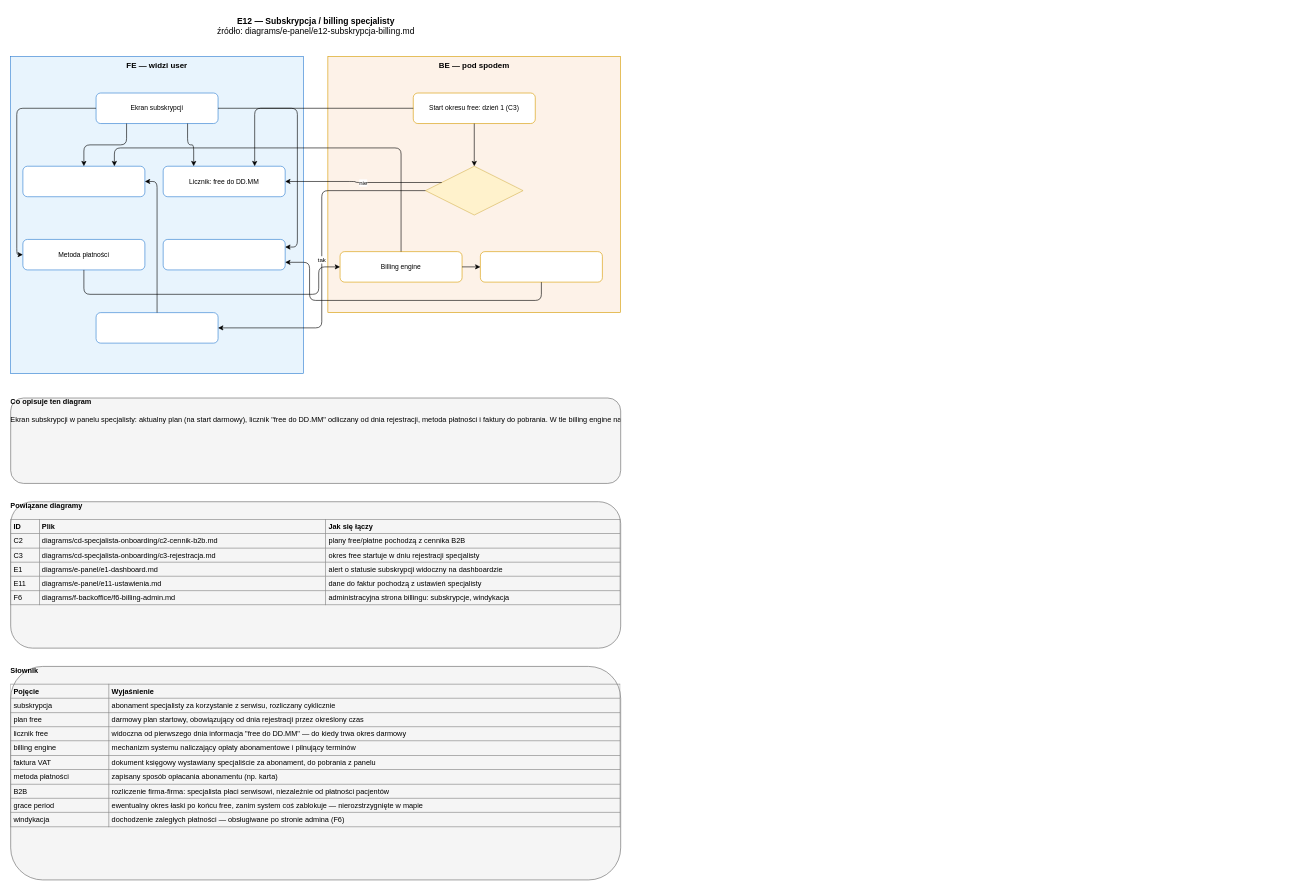
This 1315x891 diagram has some shape labels left out. Here are the shapes that lost their labels. From the top down, the centre of each, then its label:
[83,181]: Plan: free / płatne (C2)
[474,190]: Okres free minął?
[224,254]: Faktury do pobrania
[541,266]: Faktury VAT
[156,327]: Po okresie free: wybór planu
